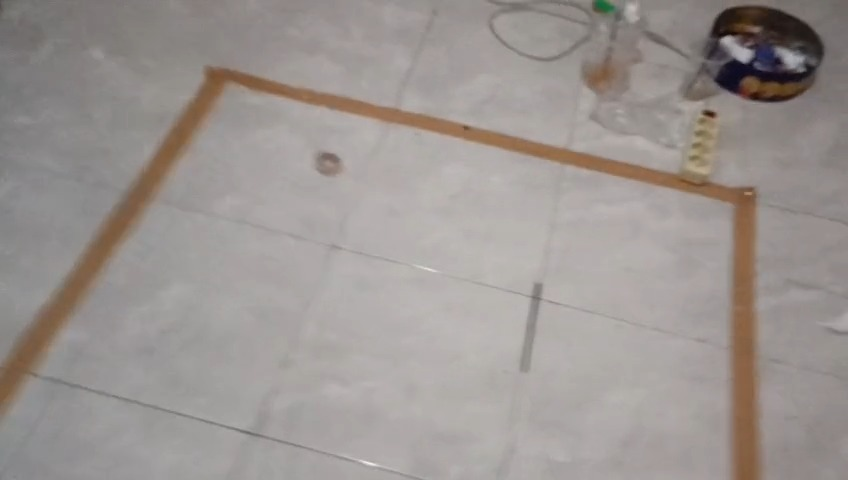floor marking: (0, 67, 760, 479)
